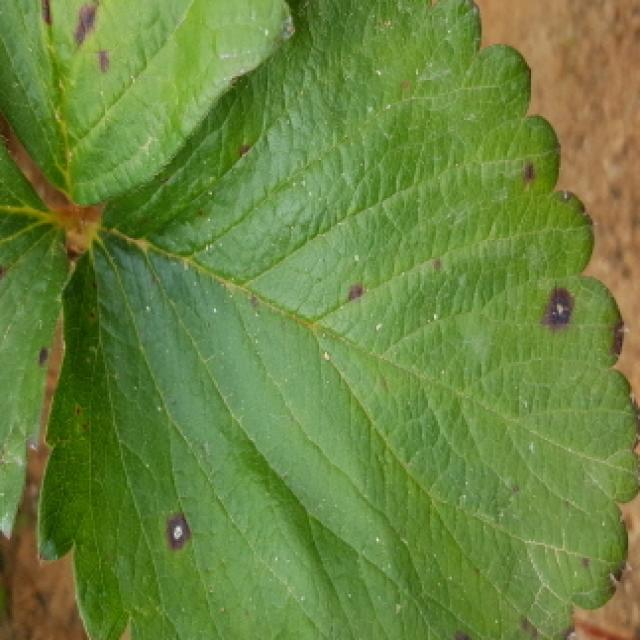Leaf Spot: (38, 0, 640, 640), (0, 129, 71, 542)
